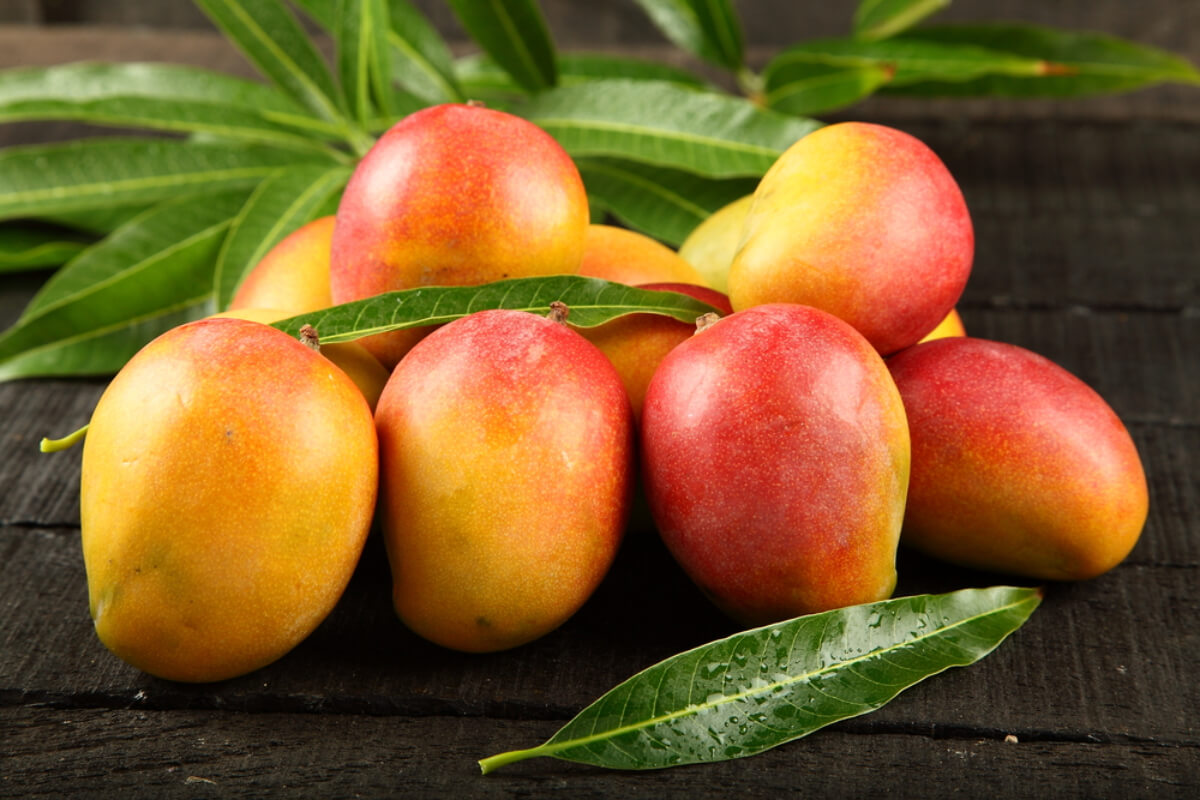Mango: (62, 299, 388, 692), (633, 295, 918, 654), (369, 292, 628, 658), (868, 316, 1156, 597), (324, 97, 597, 349), (723, 111, 978, 364)
